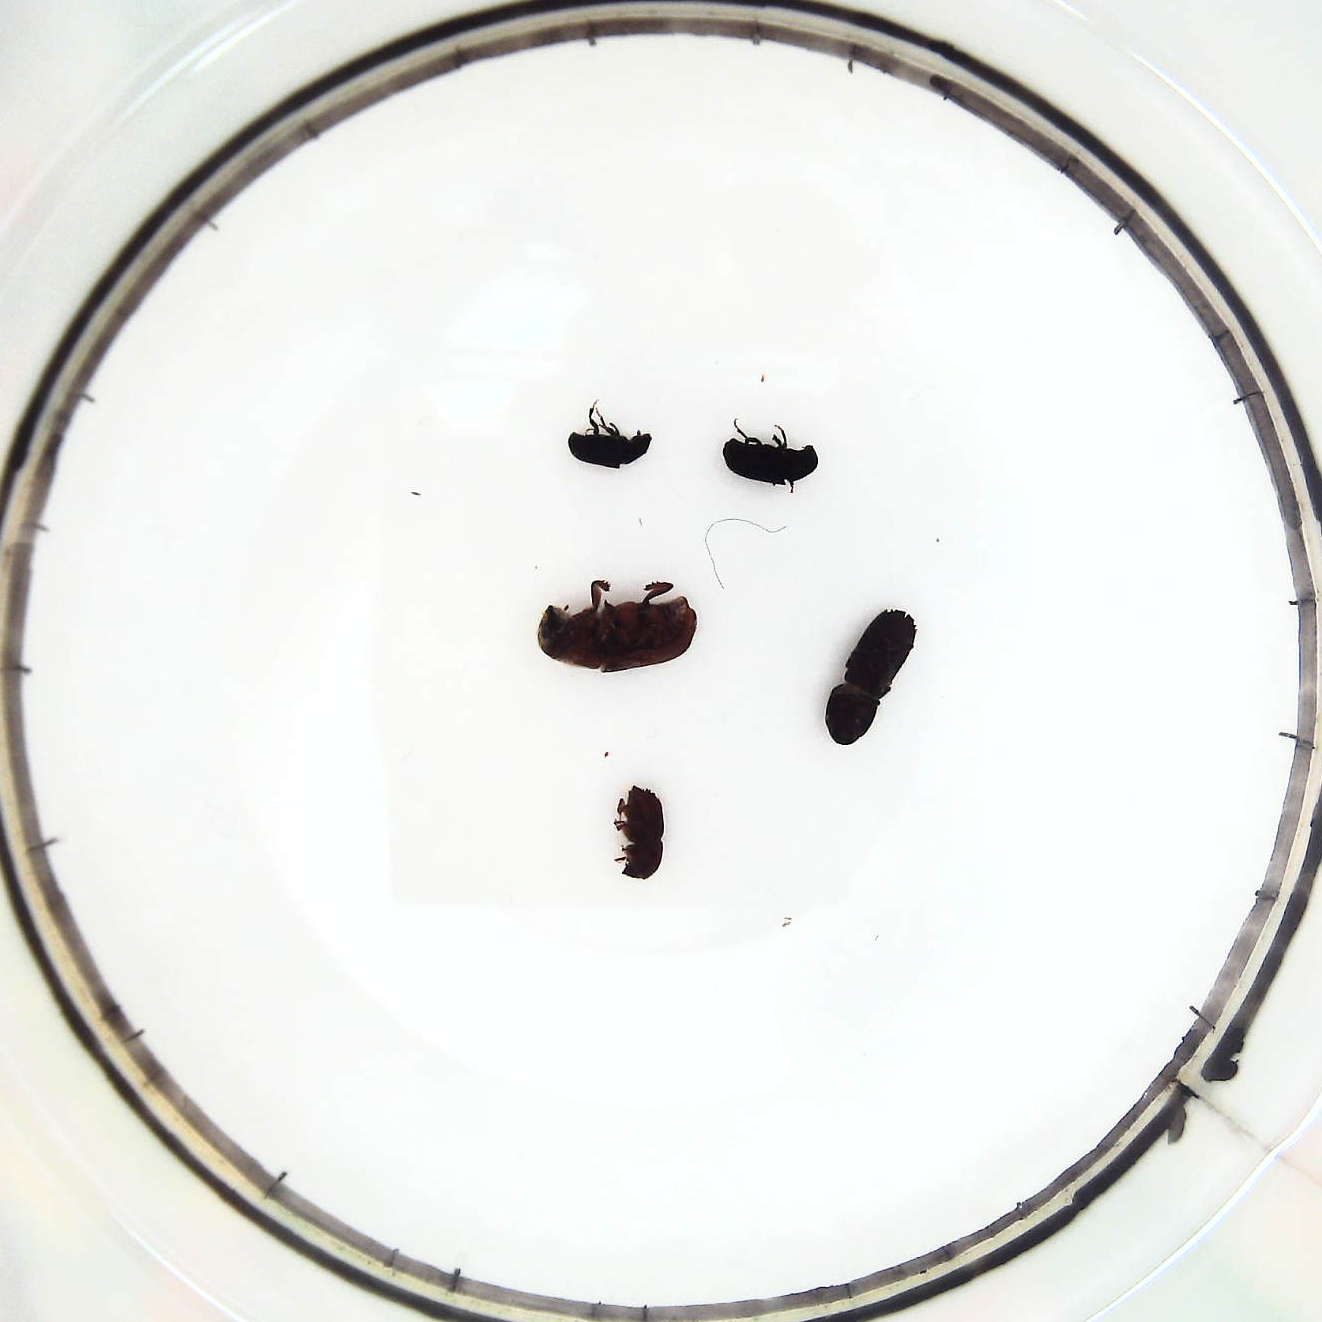Boerner: (818, 604, 916, 752)
Leconte: (533, 574, 705, 674)
armandi: (715, 410, 823, 489)
coleoptera: (562, 406, 659, 472)
linnaeus: (611, 774, 672, 887)
